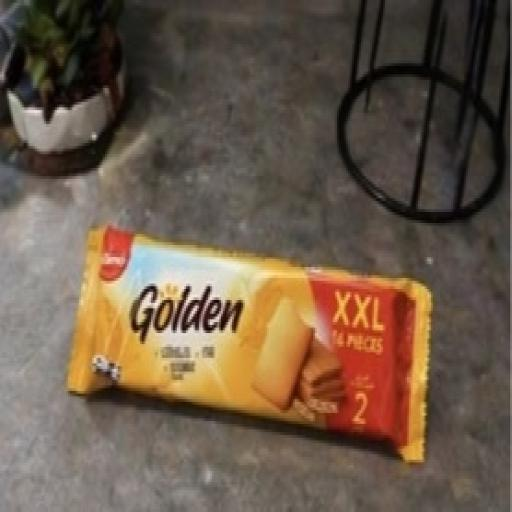golden: (54, 179, 456, 485)
